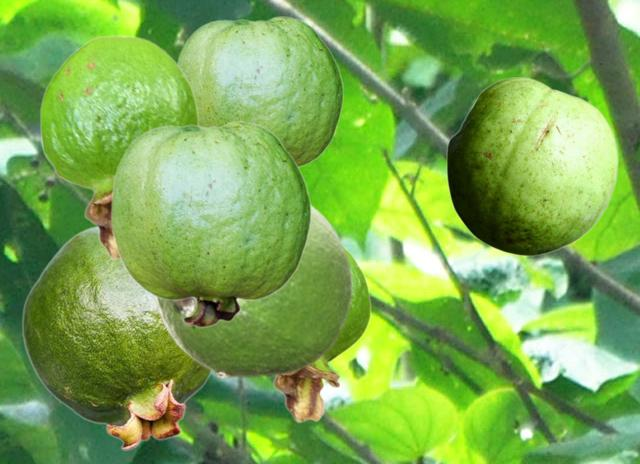guava: (21, 225, 211, 450), (115, 204, 353, 378), (110, 121, 311, 327), (39, 34, 198, 259), (446, 77, 617, 255), (177, 16, 343, 167), (272, 246, 370, 422)
